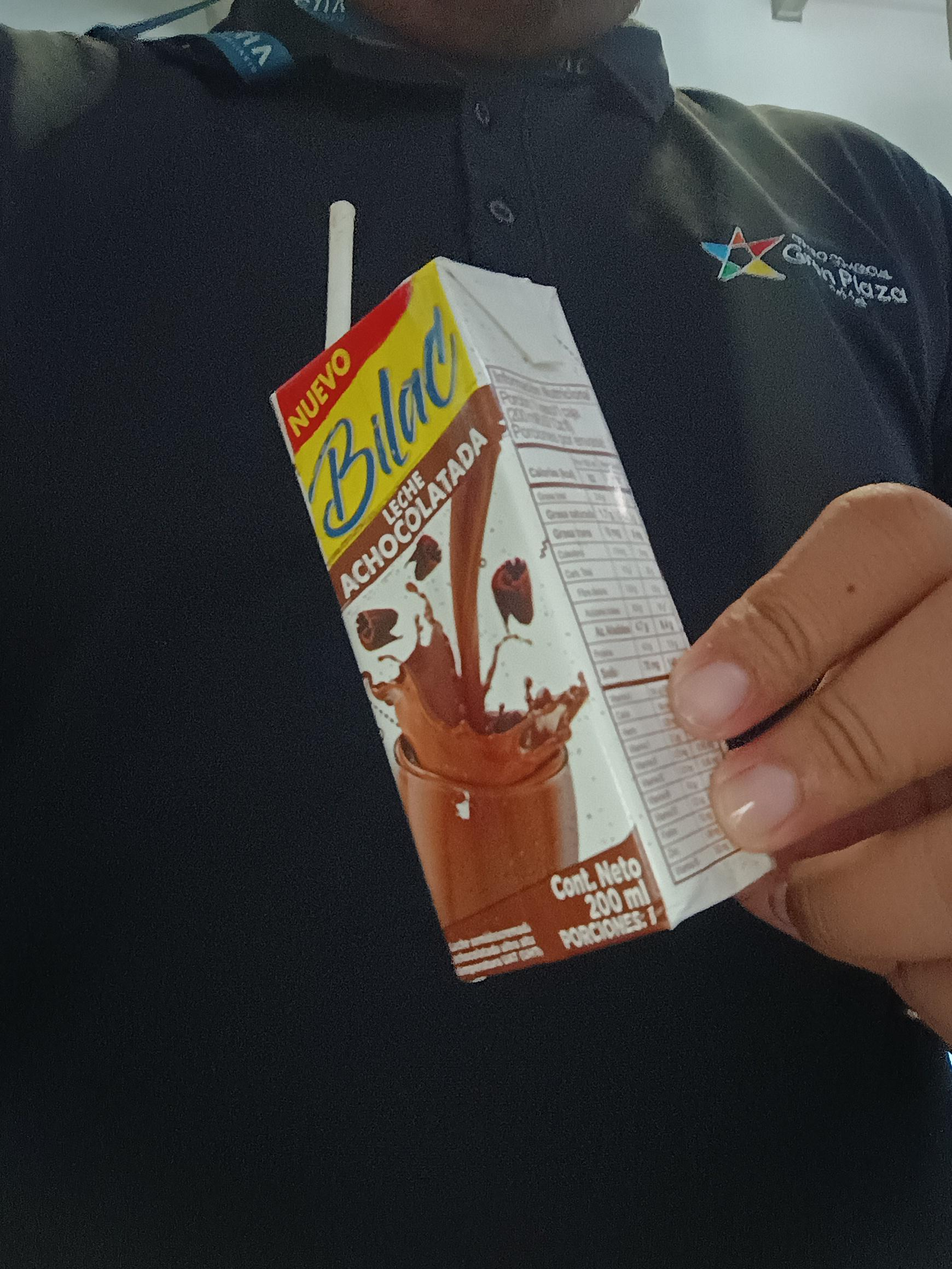Carton: (266, 255, 788, 984)
